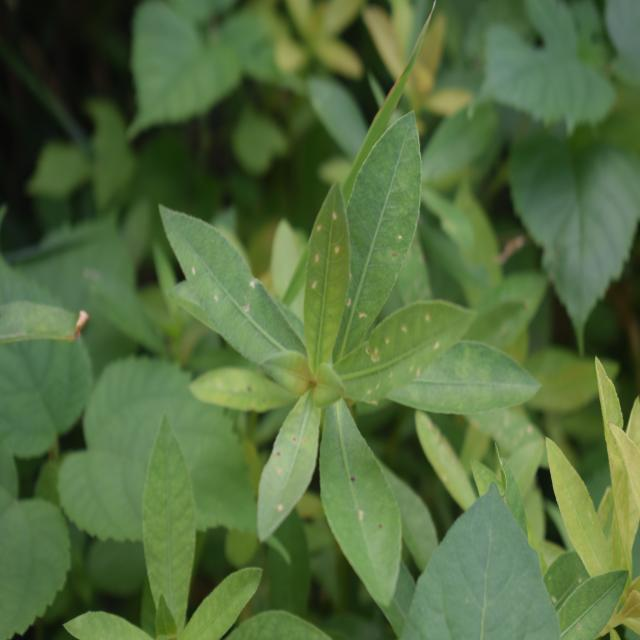Alligatorweed: (160, 131, 495, 552)
